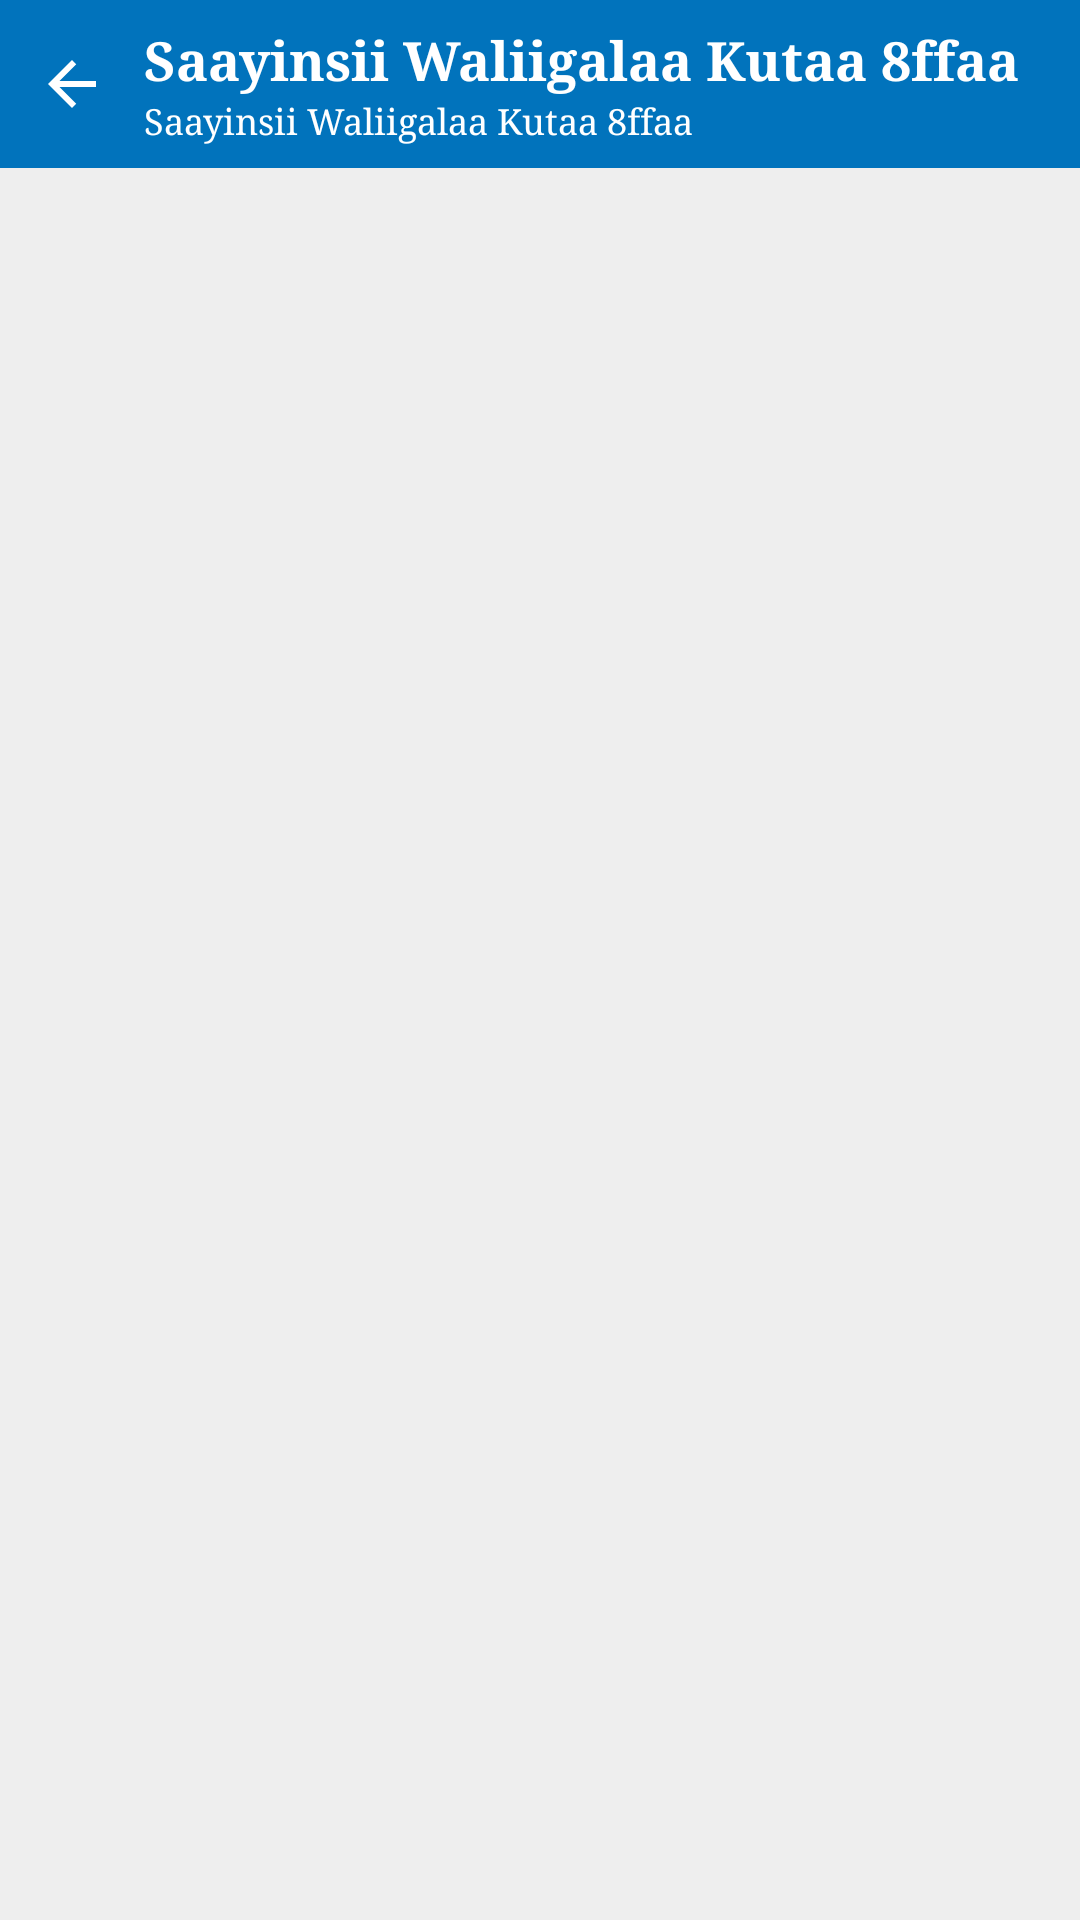

Icons on this 1080×1920 Android screen, each with the point to tap as (x=x, y=y):
arrow back: (x=72, y=84)
